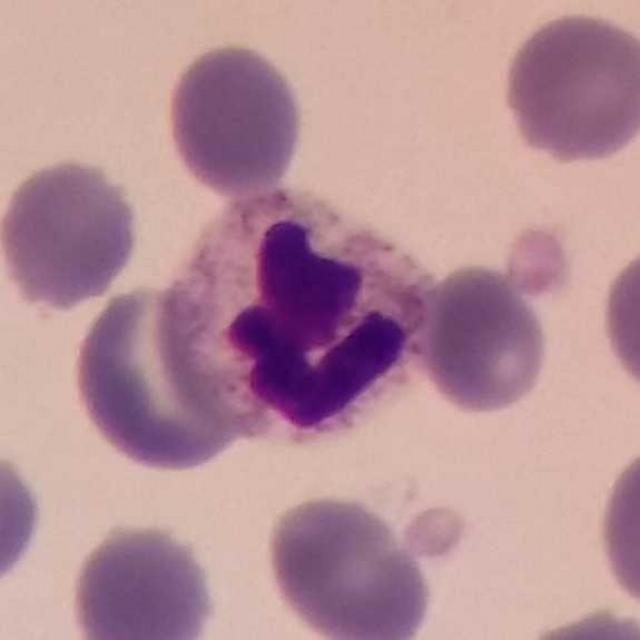Neutrophil: (150, 172, 456, 458)
Platelets: (498, 221, 578, 304), (386, 495, 473, 569)
RBC: (145, 179, 446, 460), (64, 280, 260, 476), (259, 489, 439, 640), (160, 39, 308, 197), (0, 152, 145, 313), (496, 7, 640, 167), (410, 261, 553, 418), (64, 518, 221, 640), (592, 436, 640, 620), (0, 441, 49, 601), (595, 235, 640, 408), (511, 604, 640, 640)
